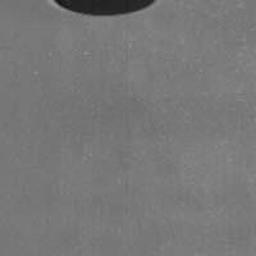Punching: (55, 0, 154, 16)
